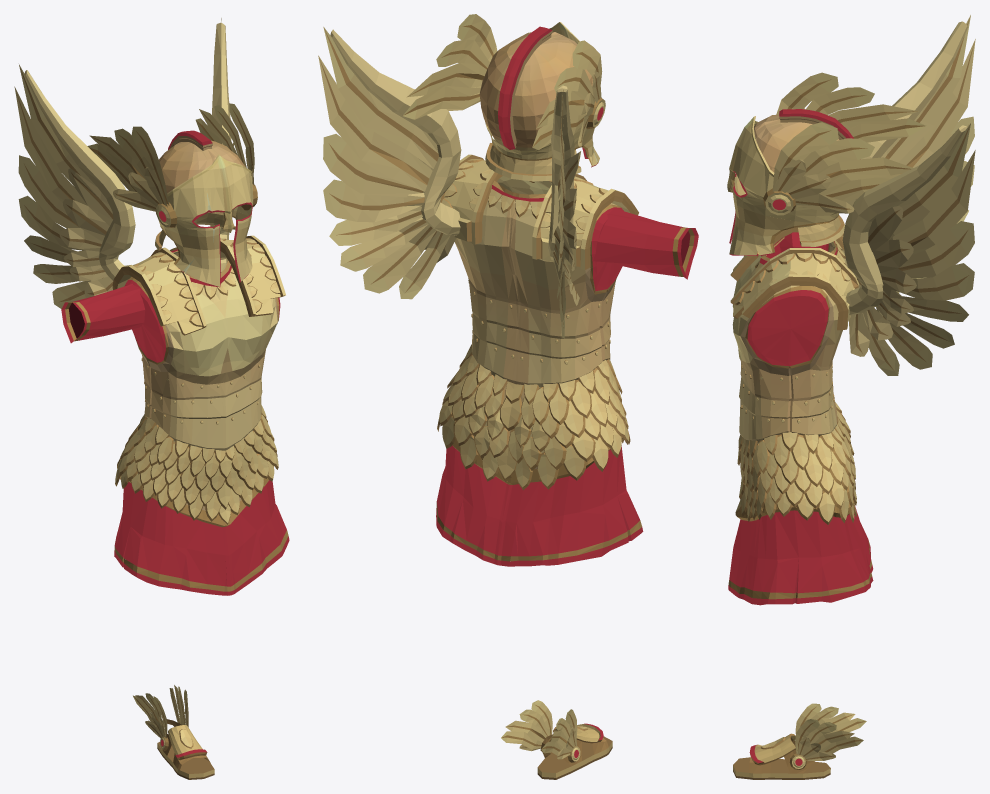
Rendered from greekWingedWarriorFemale.glb.
3 views of the same model, side by side, from view 1: azimuth 30°, elevation 25°; view 2: azimuth 150°, elevation 25°; view 3: azimuth 270°, elevation 25° (orthographic). The views are drawn at different scales.
Visible parts, largest first — view 1: greekWingedWarriorBody, greekWingedWarriorHelmet, greekWingedWarriorShoes, greekWingedWarriorUpperArm; view 2: greekWingedWarriorBody, greekWingedWarriorHelmet, greekWingedWarriorUpperArm, greekWingedWarriorShoes; view 3: greekWingedWarriorBody, greekWingedWarriorHelmet, greekWingedWarriorShoes.
Boxes of the visible parts, left/top/right/bottom form: greekWingedWarriorBody: left=14, top=18, right=289, bottom=595; greekWingedWarriorHelmet: left=87, top=103, right=257, bottom=287; greekWingedWarriorShoes: left=133, top=685, right=214, bottom=779; greekWingedWarriorUpperArm: left=61, top=284, right=145, bottom=343; greekWingedWarriorBody: left=318, top=27, right=643, bottom=566; greekWingedWarriorHelmet: left=403, top=14, right=605, bottom=181; greekWingedWarriorUpperArm: left=593, top=208, right=698, bottom=279; greekWingedWarriorShoes: left=501, top=700, right=612, bottom=779; greekWingedWarriorBody: left=728, top=15, right=975, bottom=605; greekWingedWarriorHelmet: left=727, top=72, right=926, bottom=256; greekWingedWarriorShoes: left=733, top=703, right=866, bottom=779.
Size of the model in its own units: 0.7692 by 2.06 by 0.646.
